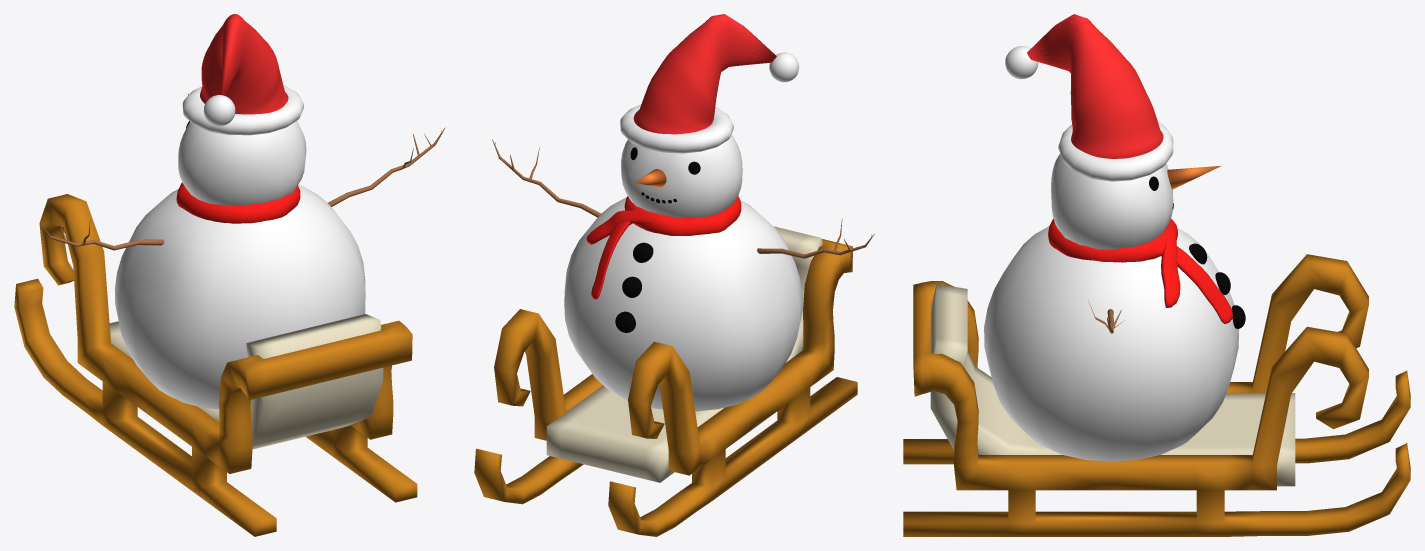
The model's file is Snowman_Final.fbx.
3 renders of one model, left to right at view 1: azimuth 30°, elevation 25°; view 2: azimuth 150°, elevation 25°; view 3: azimuth 270°, elevation 25°, orthographic. The views are drawn at different scales.
Parts seen in each view (by area): view 1: pCube4.001; view 2: pCube4.001; view 3: pCube4.001.
Part boxes in pixels (x1,y1,x2,y2): pCube4.001: [14, 14, 445, 536]; pCube4.001: [474, 14, 874, 536]; pCube4.001: [903, 14, 1410, 536].
Size of the model in its own units: 368 by 387 by 380.
